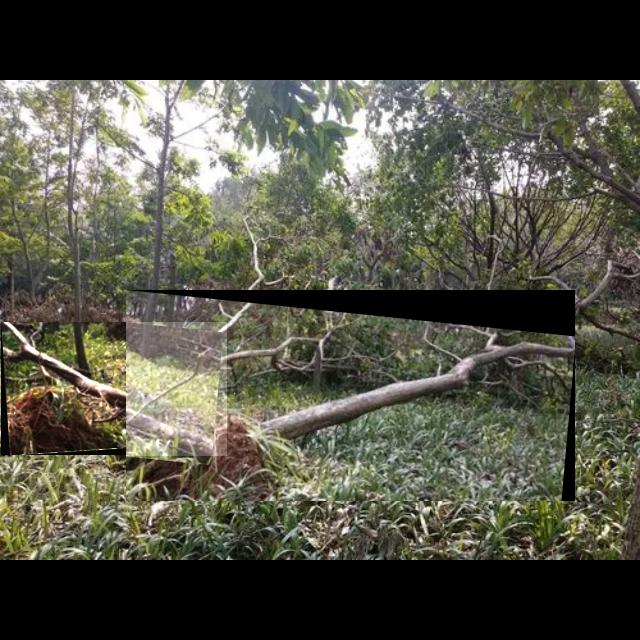Fallen Tree: (126, 290, 576, 502), (1, 322, 227, 456)
